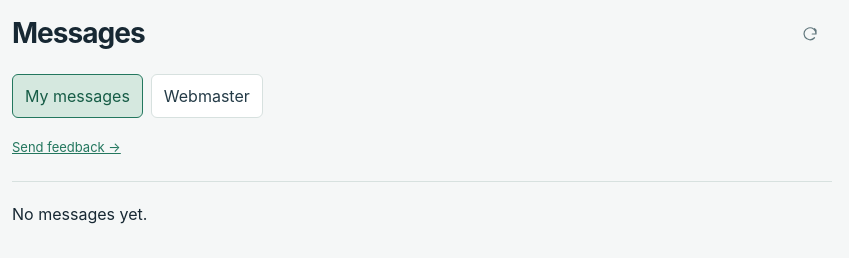
Test: gives authorized webmasters separate My messages and Webmaster views
Click the tab "Webmaster" at (207, 96), box 151,74 -> 263,118
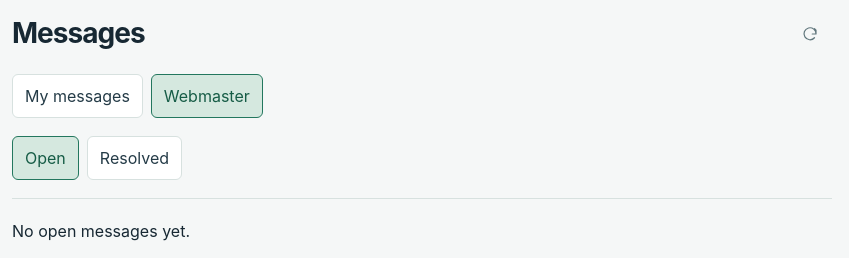
Result: the text "Resolved" is shown at 87,136 -> 182,180
